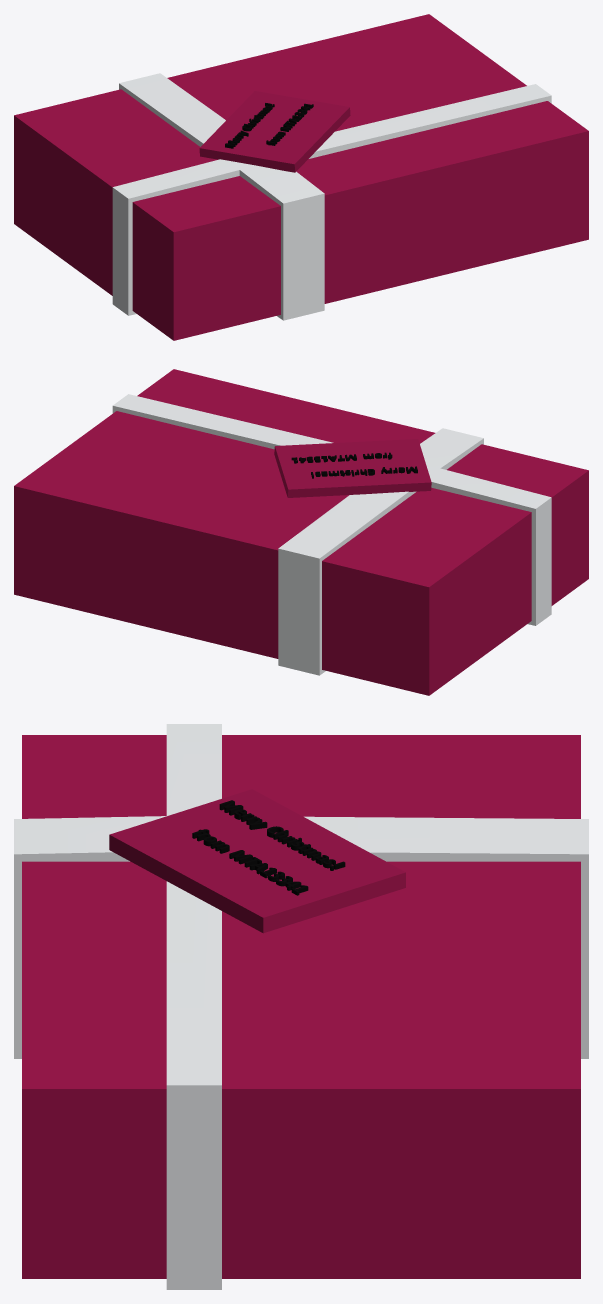
File: present_pinkwhite.FBX
3 views of the same model, one above another, from view 1: azimuth 30°, elevation 25°; view 2: azimuth 150°, elevation 25°; view 3: azimuth 270°, elevation 25° (orthographic). The views are drawn at different scales.
Parts seen in each view (by area): view 1: Box001, Object001, Box002, Object002, Text001; view 2: Box001, Object001, Box002, Object002, Text001; view 3: Box001, Object001, Box002, Object002, Text001.
Boxes of the visible parts, bbox=[...] form: Box001: bbox=[14, 14, 588, 340]; Object001: bbox=[112, 73, 551, 320]; Box002: bbox=[199, 91, 350, 172]; Object002: bbox=[119, 83, 551, 320]; Text001: bbox=[225, 103, 313, 148]; Box001: bbox=[14, 369, 588, 695]; Object001: bbox=[113, 394, 551, 675]; Box002: bbox=[274, 439, 431, 497]; Object002: bbox=[112, 406, 535, 675]; Text001: bbox=[291, 452, 417, 478]; Box001: bbox=[22, 735, 580, 1278]; Object001: bbox=[14, 724, 588, 1289]; Box002: bbox=[109, 789, 405, 933]; Object002: bbox=[14, 852, 588, 1058]; Text001: bbox=[192, 800, 345, 895].
Bounding box in the file's own units: 122 × 36.32 × 82.34.
